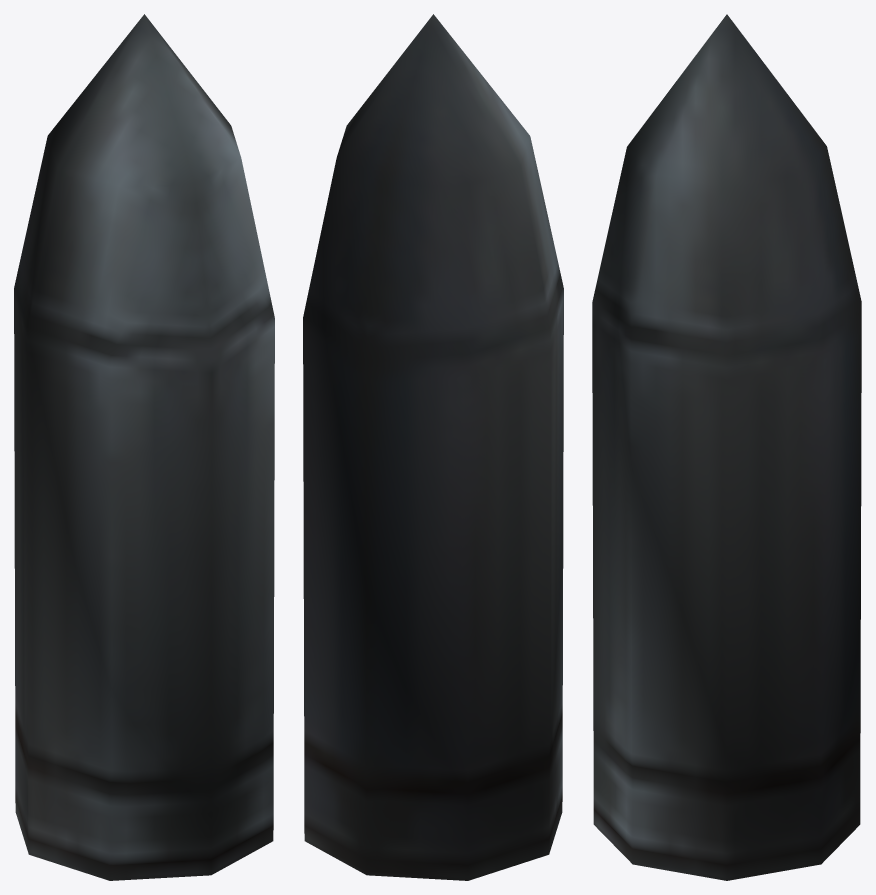
Rendered from G_cannon_01_bullet.FBX.
3 views of the same model, side by side, from view 1: azimuth 30°, elevation 25°; view 2: azimuth 150°, elevation 25°; view 3: azimuth 270°, elevation 25° (orthographic).
Visible parts, largest first — view 1: G_cannon_01_bulletw; view 2: G_cannon_01_bulletw; view 3: G_cannon_01_bulletw.
Part boxes in pixels (bbox=[...]): G_cannon_01_bulletw: bbox=[14, 14, 274, 880]; G_cannon_01_bulletw: bbox=[303, 14, 563, 880]; G_cannon_01_bulletw: bbox=[592, 14, 861, 880].
Size of the model in its own units: 26.18 by 86.87 by 26.18.
